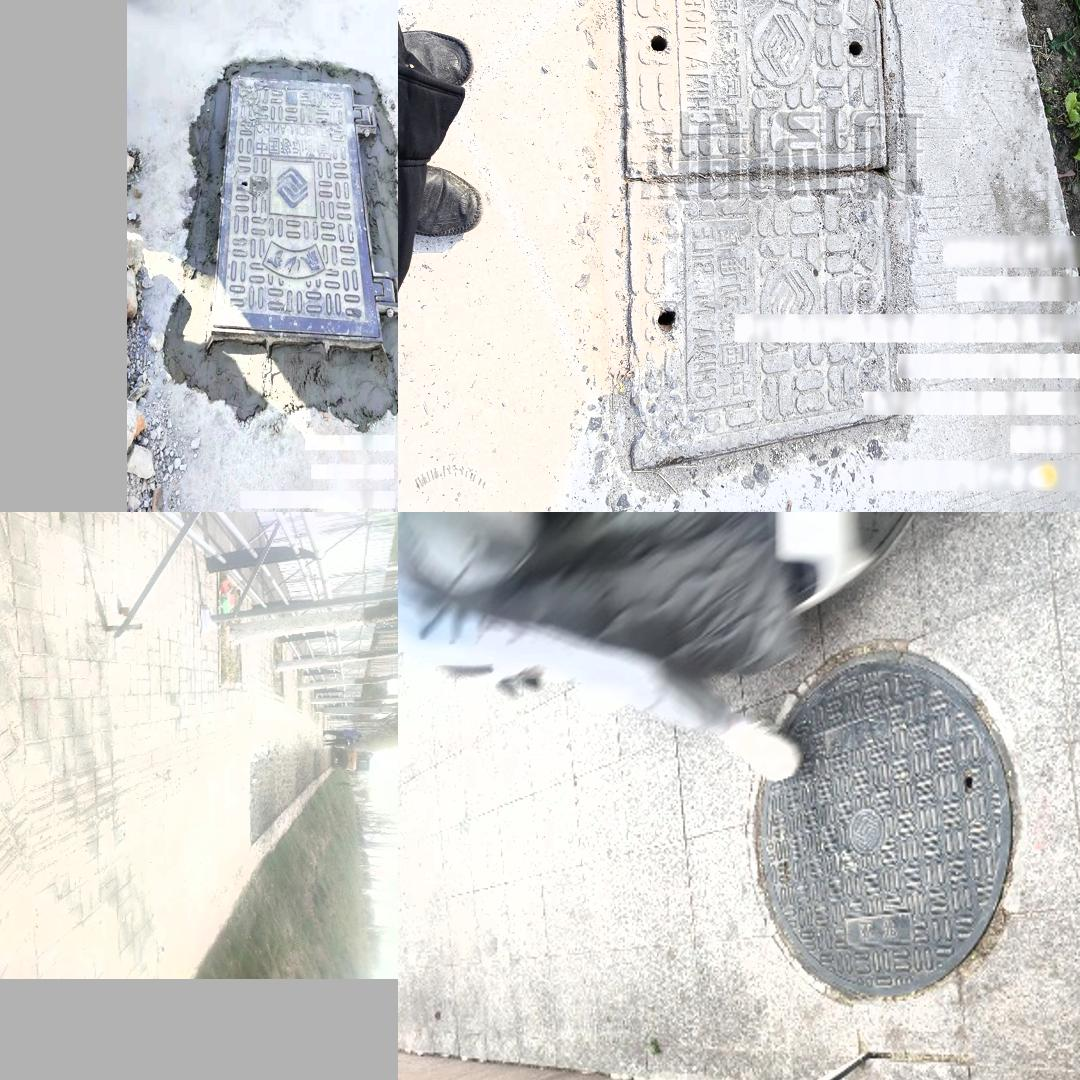good: (606, 0, 901, 488), (750, 646, 1010, 997), (208, 76, 397, 349)
